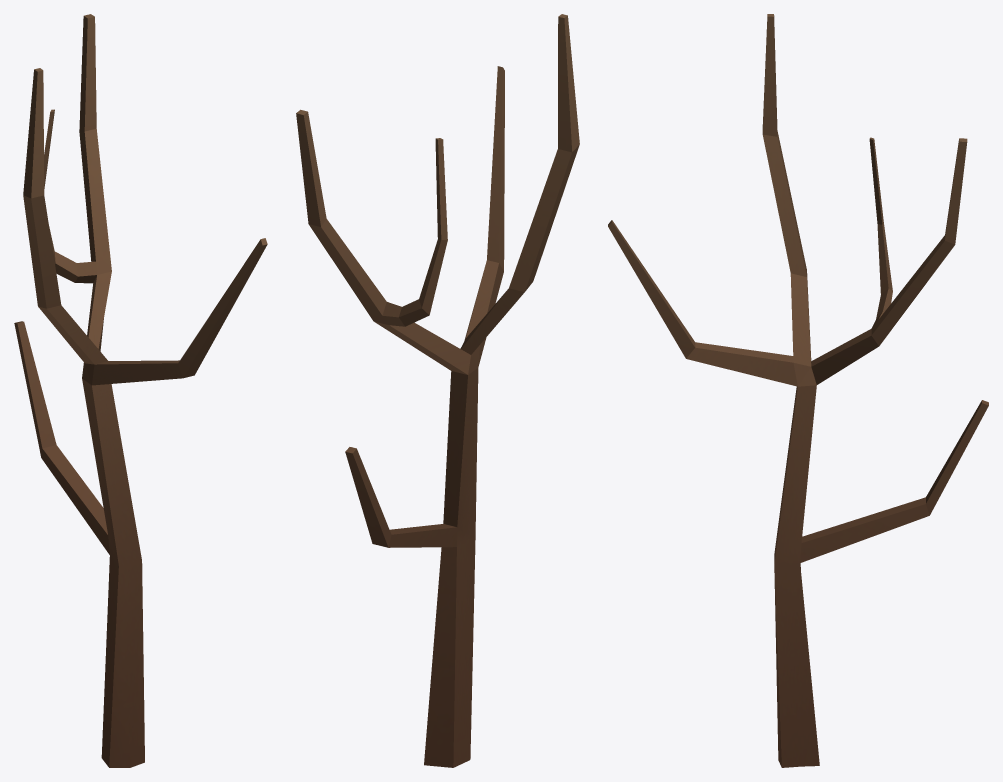
The model's file is Tree1_Winter.FBX.
3 views of the same model, side by side, from view 1: azimuth 30°, elevation 25°; view 2: azimuth 150°, elevation 25°; view 3: azimuth 270°, elevation 25° (orthographic). The views are drawn at different scales.
Parts seen in each view (by area): view 1: Tree1_Winter; view 2: Tree1_Winter; view 3: Tree1_Winter.
Boxes of the visible parts, x1,y1,x2,y2 form: Tree1_Winter: (14, 14, 267, 767); Tree1_Winter: (296, 14, 579, 767); Tree1_Winter: (608, 14, 988, 767).
Size of the model in its own units: 139 by 579 by 286.
